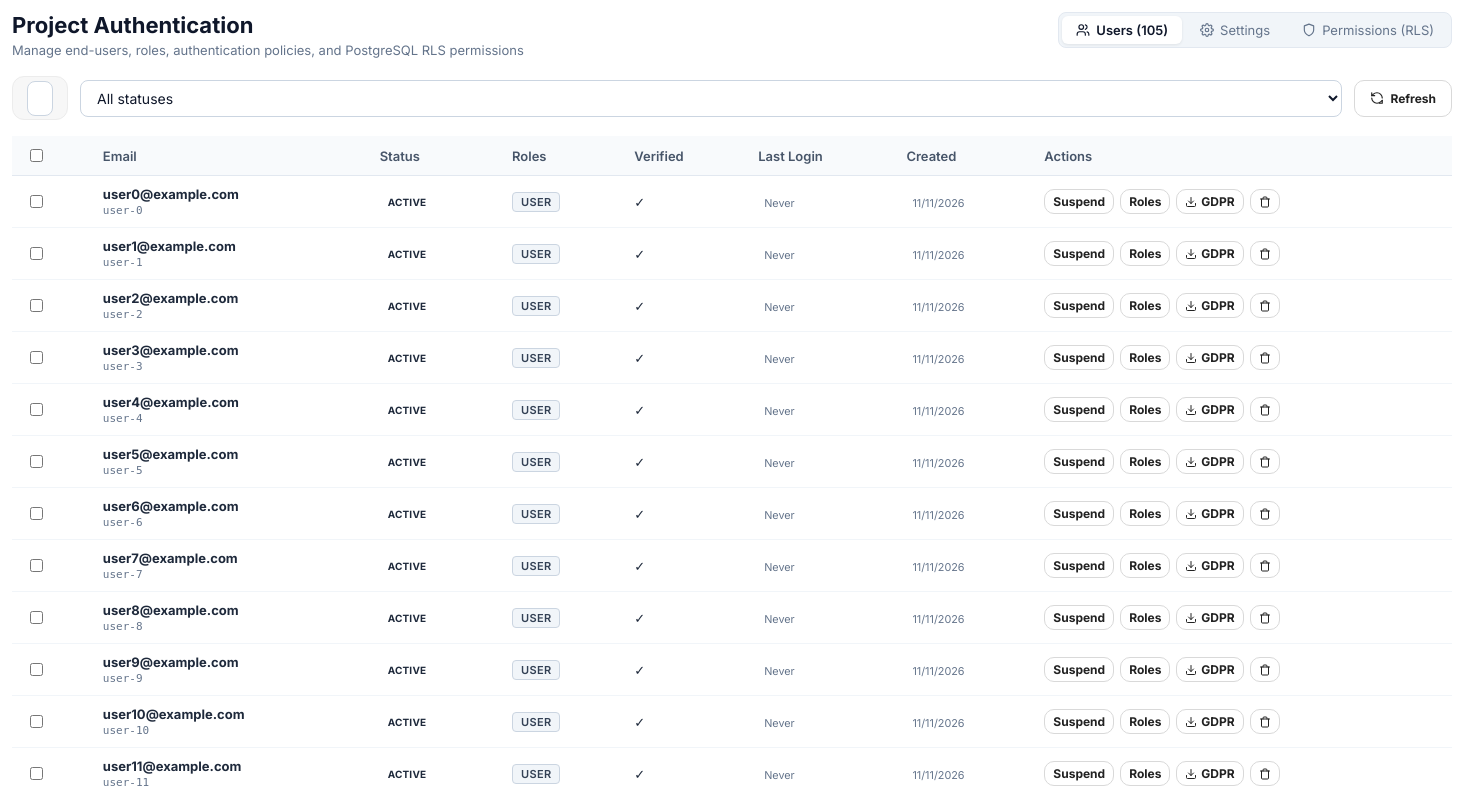
it: Project Authentication bulk actions › selects every user beyond the server's first page and applies deduplicated roles
What coordinates should you click on to do the following:
click the checkbox named "Select displayed users"
I would click on:
 (36, 156)
Its box is x1=30 y1=149 x2=43 y2=162.
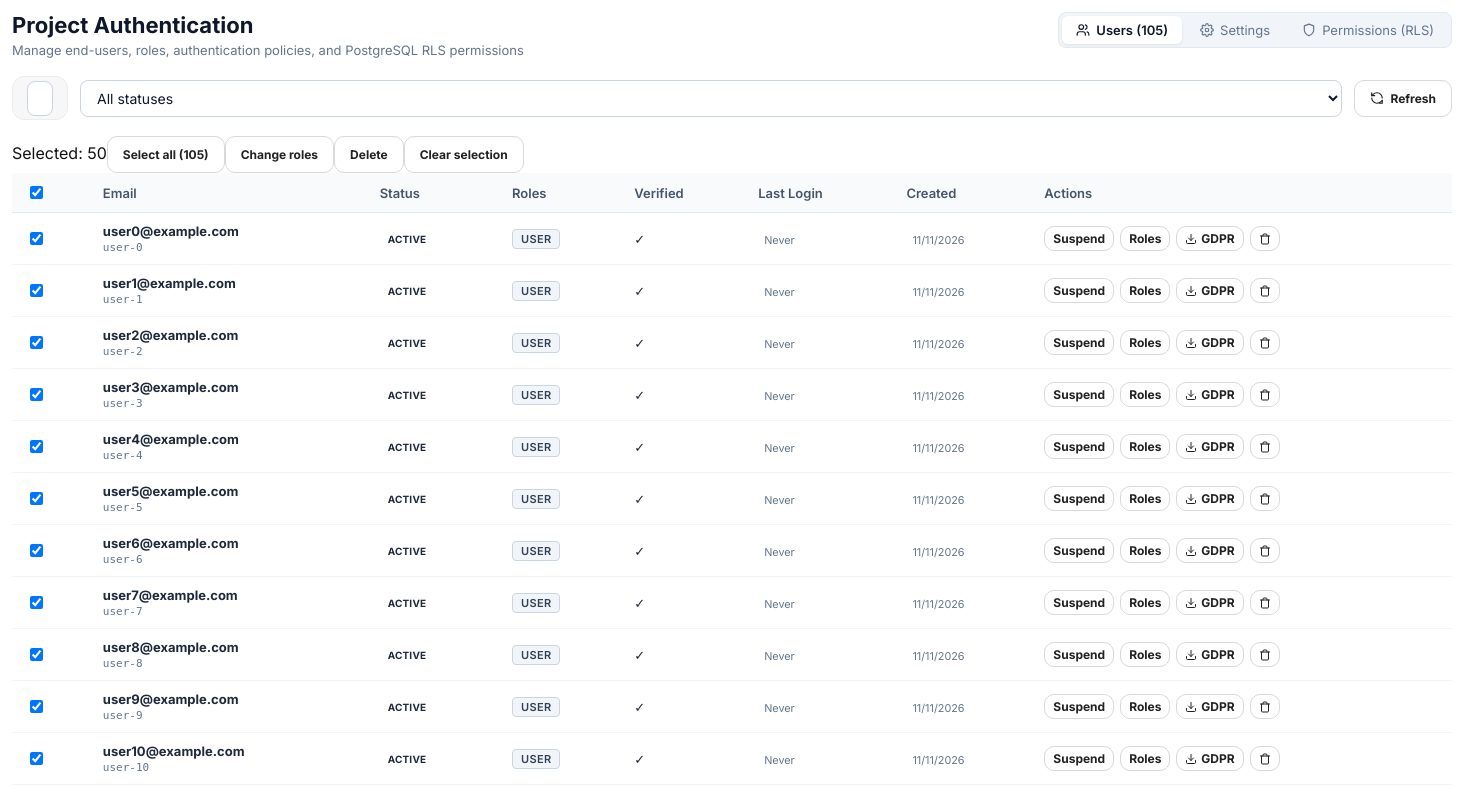
Check: the message "Selected: 50" is shown, box x1=12 y1=143 x2=107 y2=163
Check: the button "Select all (105)" is shown
What coordinates should you click on to do the following:
click the button "Select all (105)"
I would click on:
 (166, 154)
Its box is x1=107 y1=136 x2=225 y2=173.
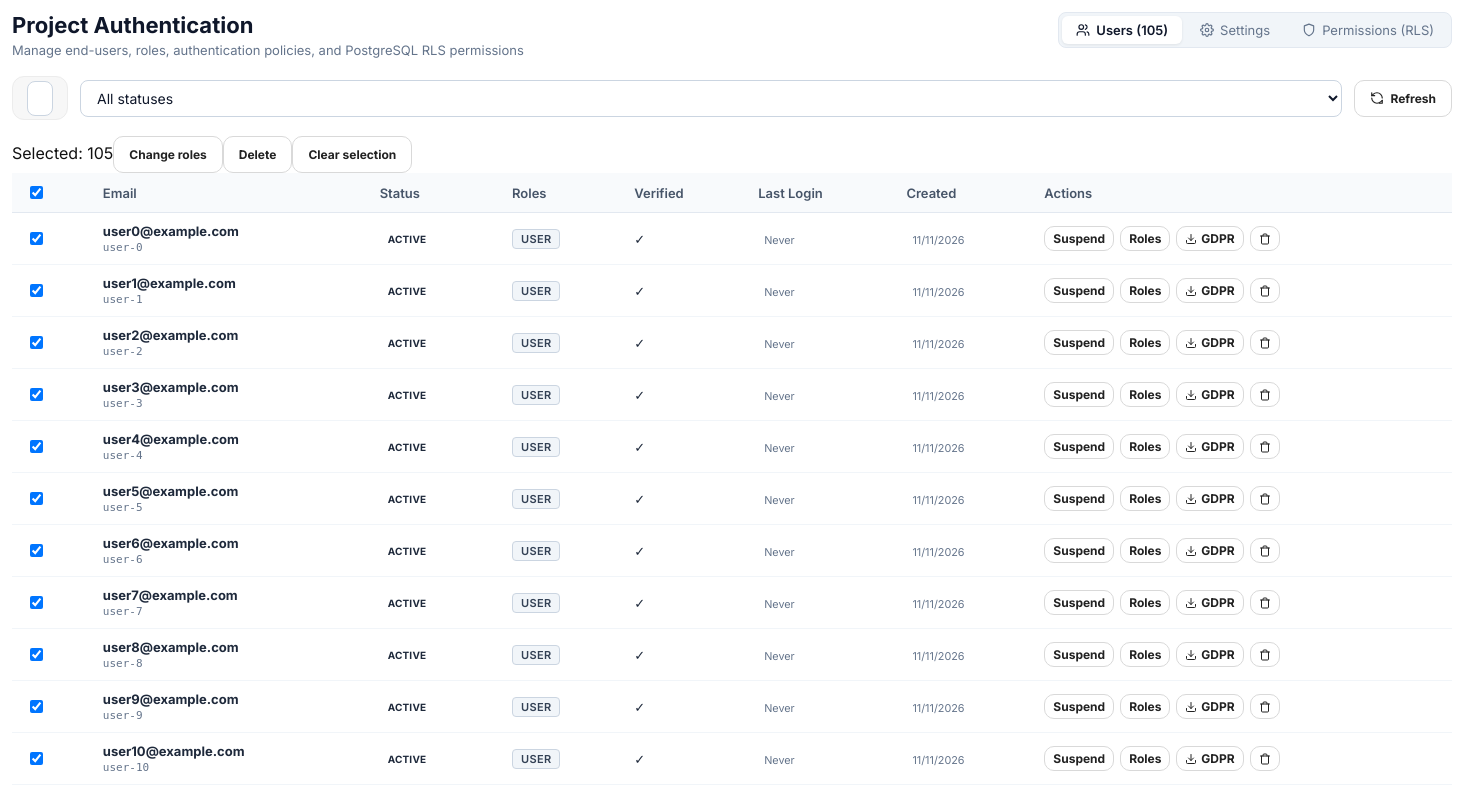
Check: the button "Change roles" is shown
Check: the message "Selected: 105" is shown, box x1=12 y1=143 x2=113 y2=163
What coordinates should you click on to do the following:
click the button "Change roles"
I would click on:
 (168, 154)
Its box is x1=113 y1=136 x2=223 y2=173.
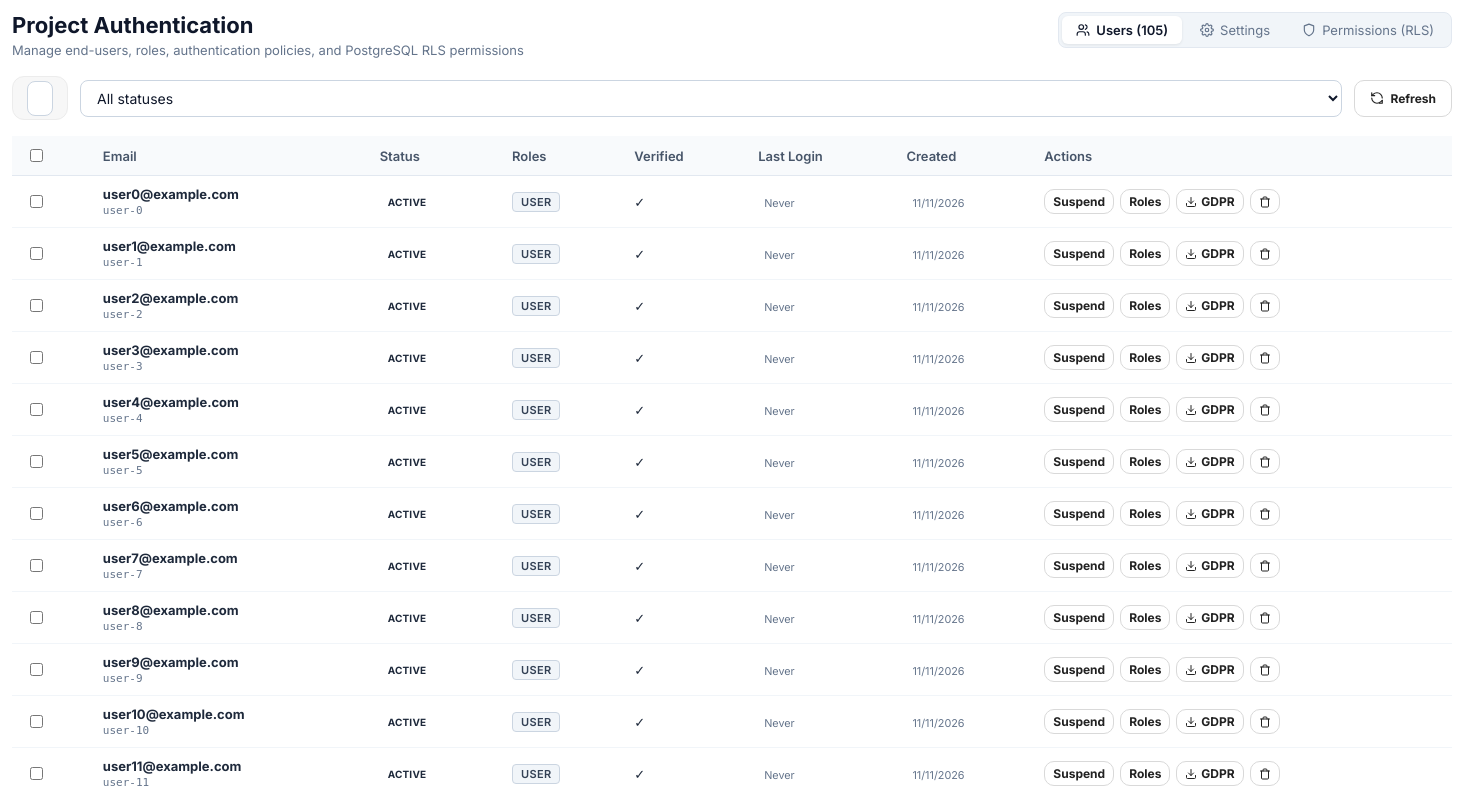
Check: the element with class "auth-user-bulk-toolbar" is gone
